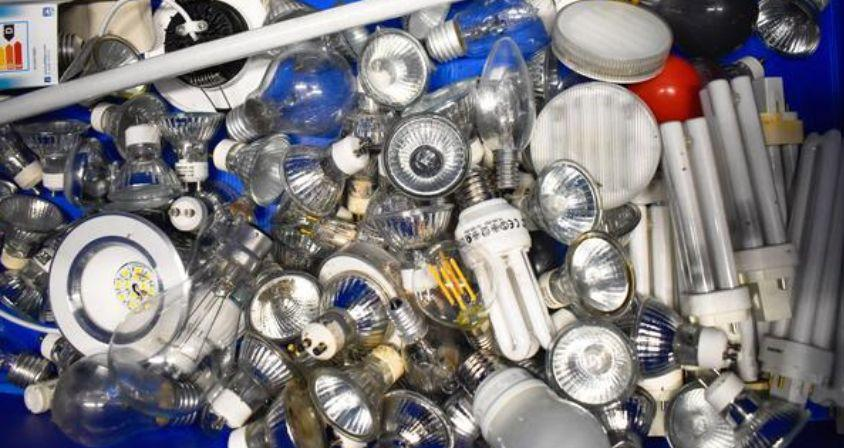light bulb: (120, 214, 280, 388), (448, 165, 558, 361), (527, 83, 660, 212), (294, 331, 408, 444), (465, 36, 541, 193), (316, 238, 420, 342), (664, 370, 803, 447), (549, 1, 670, 84), (268, 131, 368, 222), (422, 0, 551, 70), (534, 229, 638, 313), (731, 56, 786, 200), (546, 318, 638, 404), (381, 112, 470, 200), (259, 0, 361, 70), (105, 122, 182, 211), (0, 1, 73, 91), (58, 33, 145, 106), (355, 28, 431, 111), (629, 295, 691, 383), (157, 186, 228, 262), (0, 193, 70, 270), (731, 244, 795, 324), (61, 137, 117, 209), (761, 335, 832, 391), (109, 300, 174, 361), (752, 0, 819, 56), (0, 124, 47, 193), (16, 120, 88, 165), (0, 269, 51, 323), (437, 391, 485, 447), (222, 99, 274, 146), (150, 1, 199, 50), (404, 5, 451, 44), (735, 318, 759, 380), (49, 335, 86, 374), (263, 0, 314, 25), (23, 379, 58, 414), (211, 139, 241, 174), (124, 123, 160, 152), (728, 55, 763, 81), (762, 76, 786, 111), (804, 0, 829, 12)
